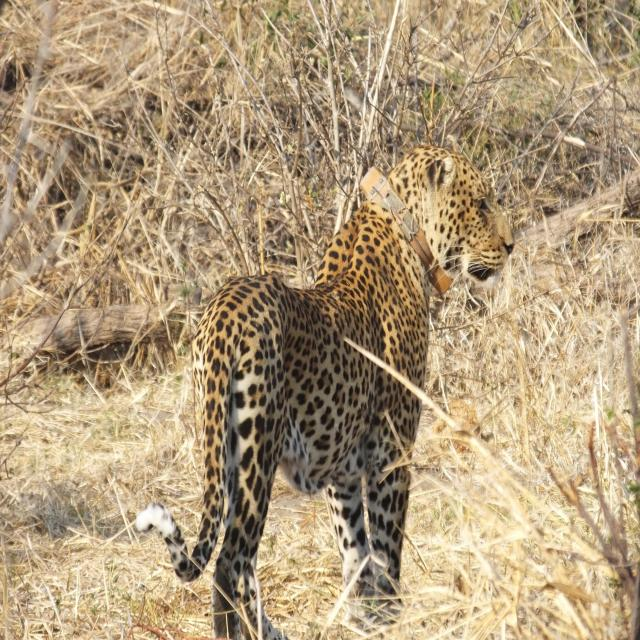Leopard: (138, 139, 518, 620)
